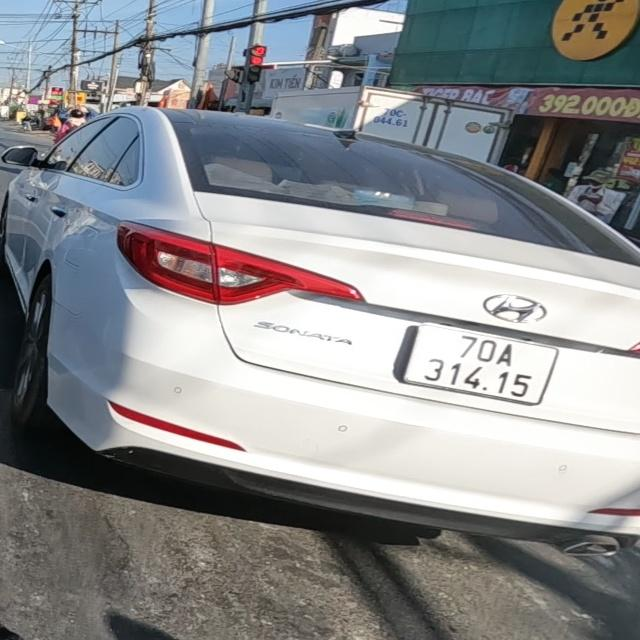license-plate: (406, 324, 559, 405)
